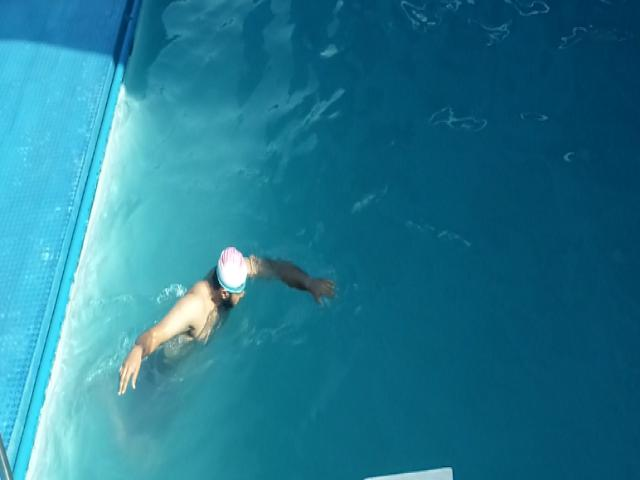swimming: (117, 245, 336, 399)
